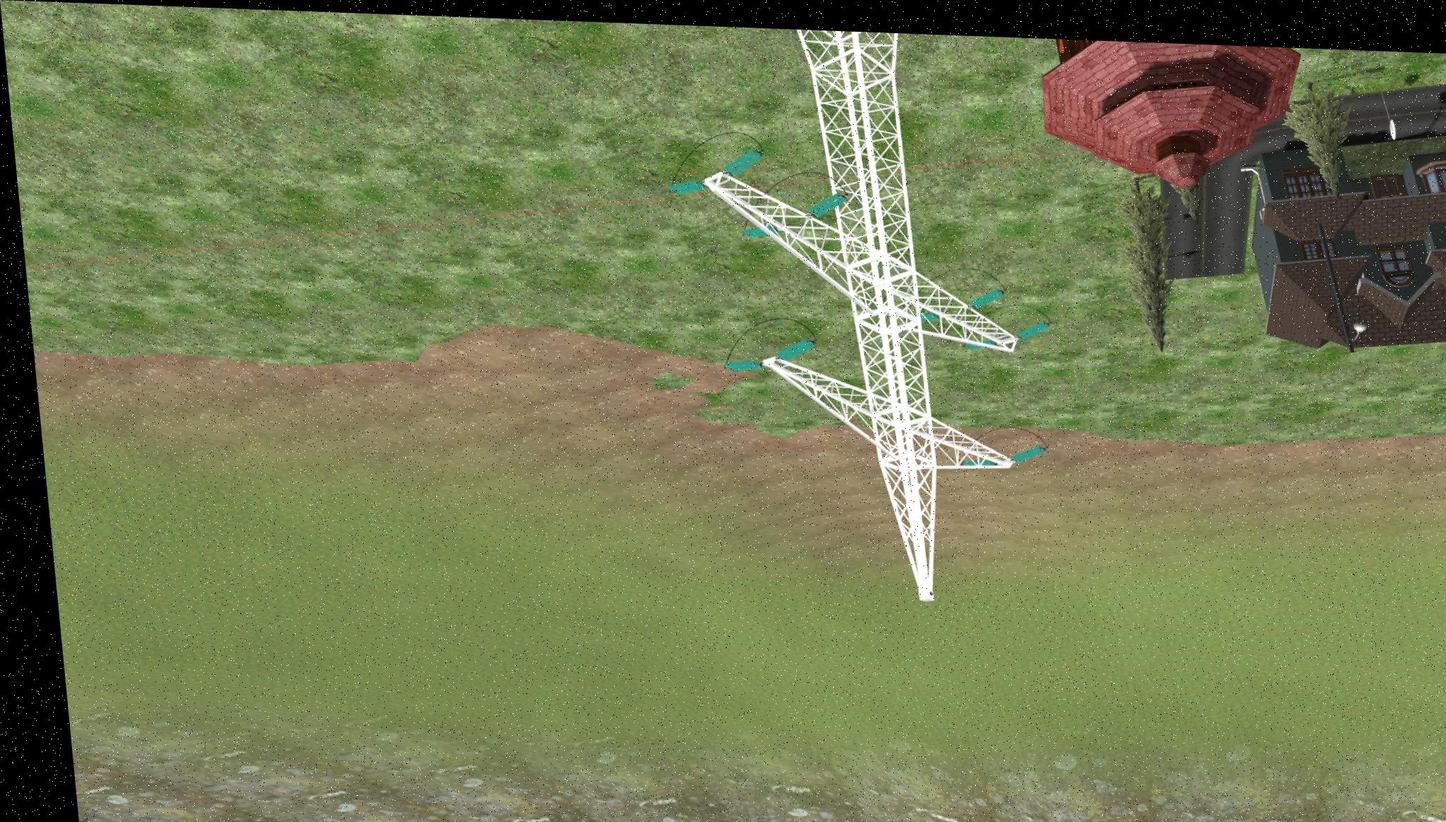tower: (681, 25, 1048, 610)
